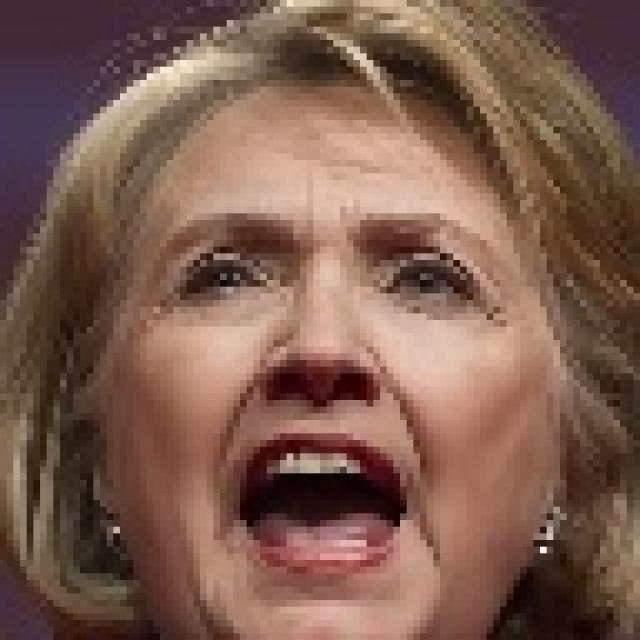angry: (90, 85, 596, 640)
